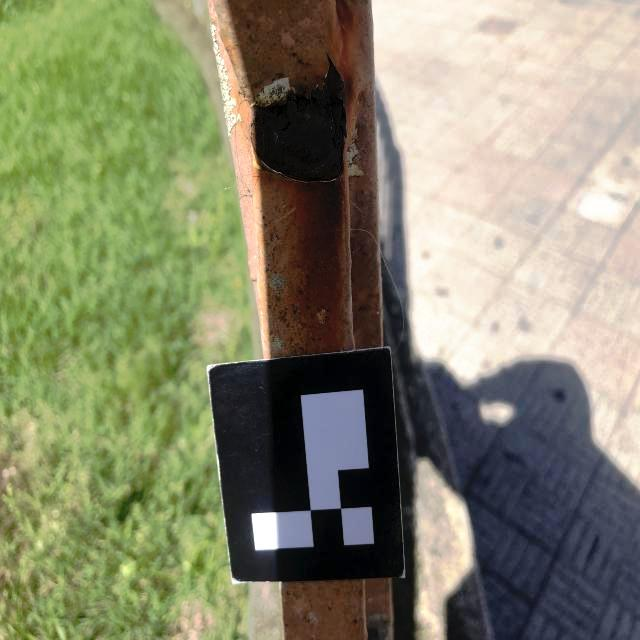Corrosion: (255, 65, 346, 182)
